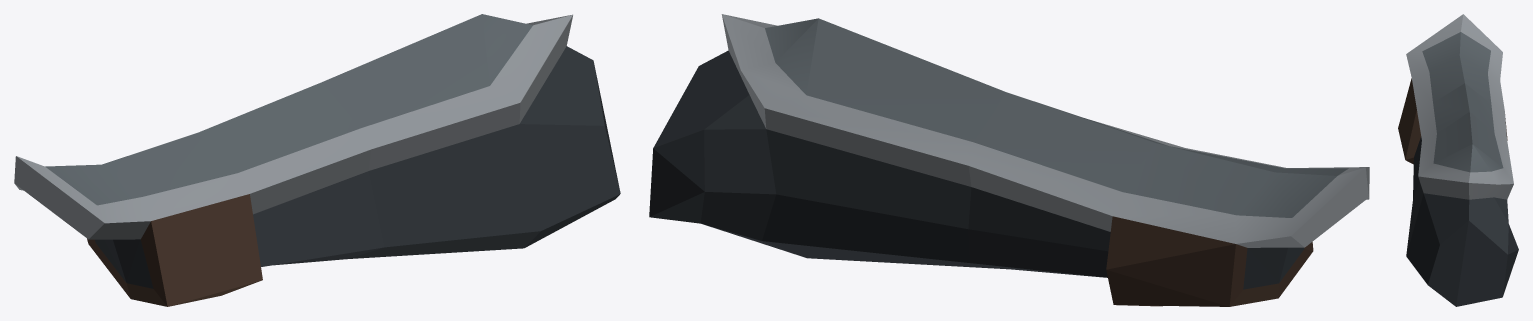
The model's file is Chr_ArmLowerRight_Female_12_Static.fbx.
The picture shows the model from 3 angles, left to right: view 1: azimuth 30°, elevation 25°; view 2: azimuth 150°, elevation 25°; view 3: azimuth 270°, elevation 25°; orthographic projection. The views are drawn at different scales.
Visible parts, largest first — view 1: Chr_ArmLowerRight_Female_12_Static; view 2: Chr_ArmLowerRight_Female_12_Static; view 3: Chr_ArmLowerRight_Female_12_Static.
Part boxes in pixels (x1=…): Chr_ArmLowerRight_Female_12_Static: x1=14, y1=14, x2=620, y2=306; Chr_ArmLowerRight_Female_12_Static: x1=649, y1=14, x2=1369, y2=306; Chr_ArmLowerRight_Female_12_Static: x1=1398, y1=14, x2=1518, y2=306.
Size of the model in its own units: 0.3356 by 0.1223 by 0.0947.
